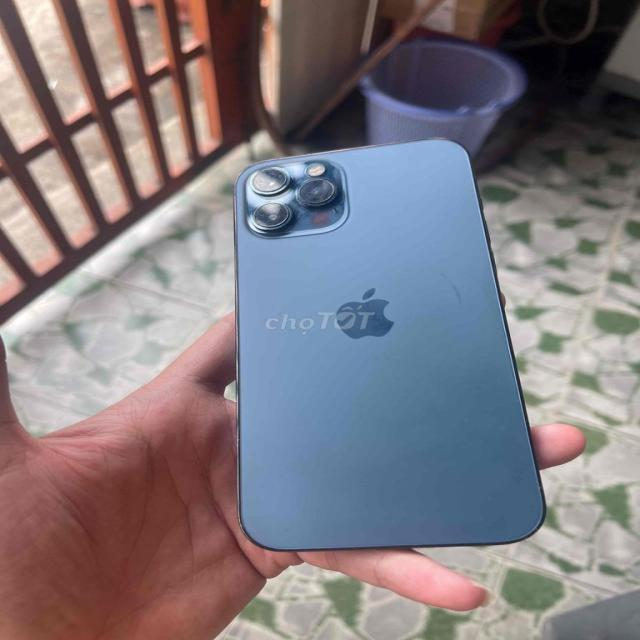gen_12_13: (222, 135, 552, 558)
